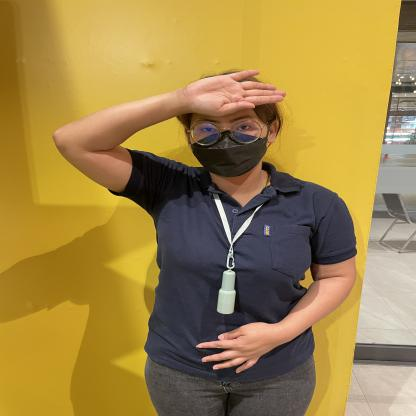Sick: (124, 46, 326, 128)
